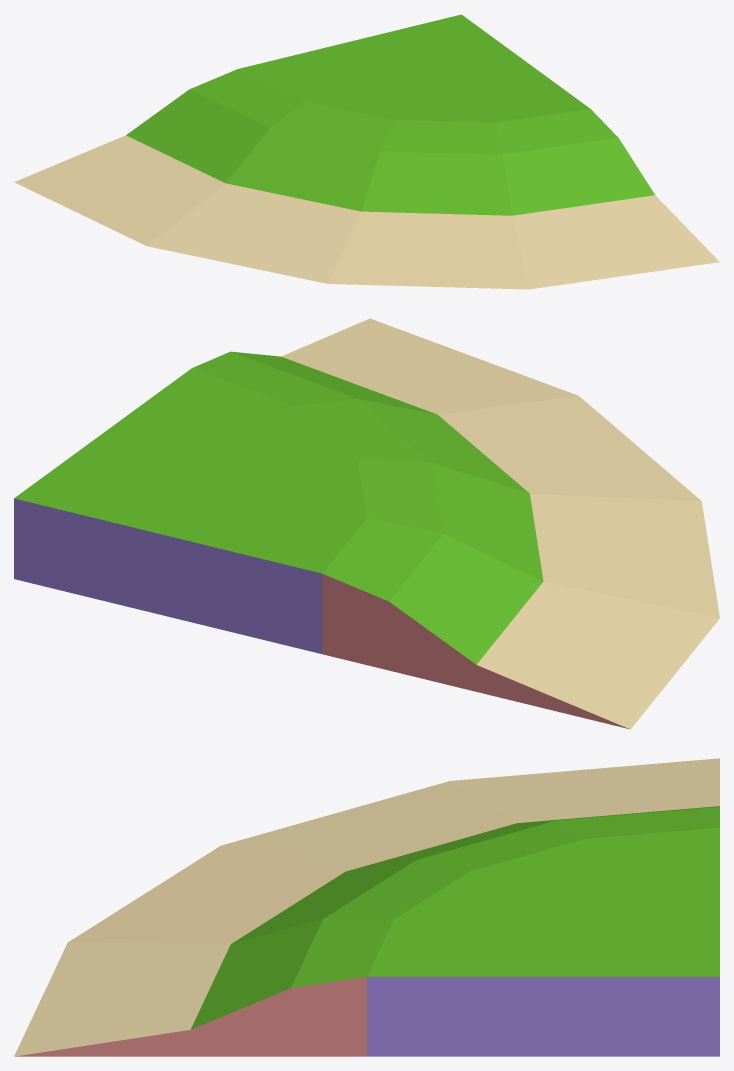
File: Path_Terrain_Basic_Curve_Outer_2x2.glb
3 renders of one model, top to bottom at view 1: azimuth 30°, elevation 25°; view 2: azimuth 150°, elevation 25°; view 3: azimuth 270°, elevation 25°, orthographic. The views are drawn at different scales.
Parts seen in each view (by area): view 1: Path_Terrain_Basic_Curve_Outer_2x2; view 2: Path_Terrain_Basic_Curve_Outer_2x2; view 3: Path_Terrain_Basic_Curve_Outer_2x2.
Part boxes in pixels (left/top/right/bottom): Path_Terrain_Basic_Curve_Outer_2x2: left=14, top=14, right=719, bottom=289; Path_Terrain_Basic_Curve_Outer_2x2: left=14, top=318, right=719, bottom=729; Path_Terrain_Basic_Curve_Outer_2x2: left=14, top=758, right=719, bottom=1056.
Bounding box in the file's own units: 200 × 25 × 200.
